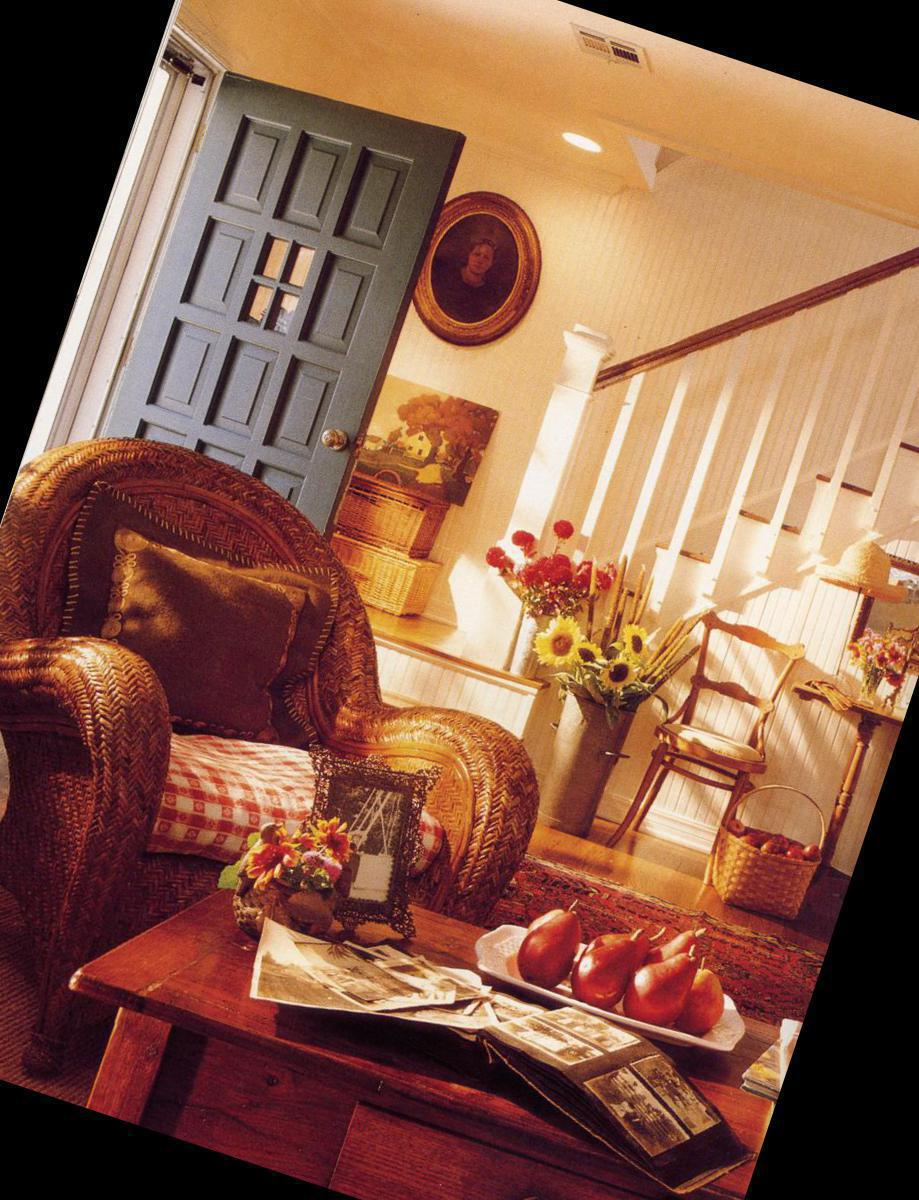Escaleras: (382, 122, 919, 852)
Puerta: (99, 62, 457, 505)
